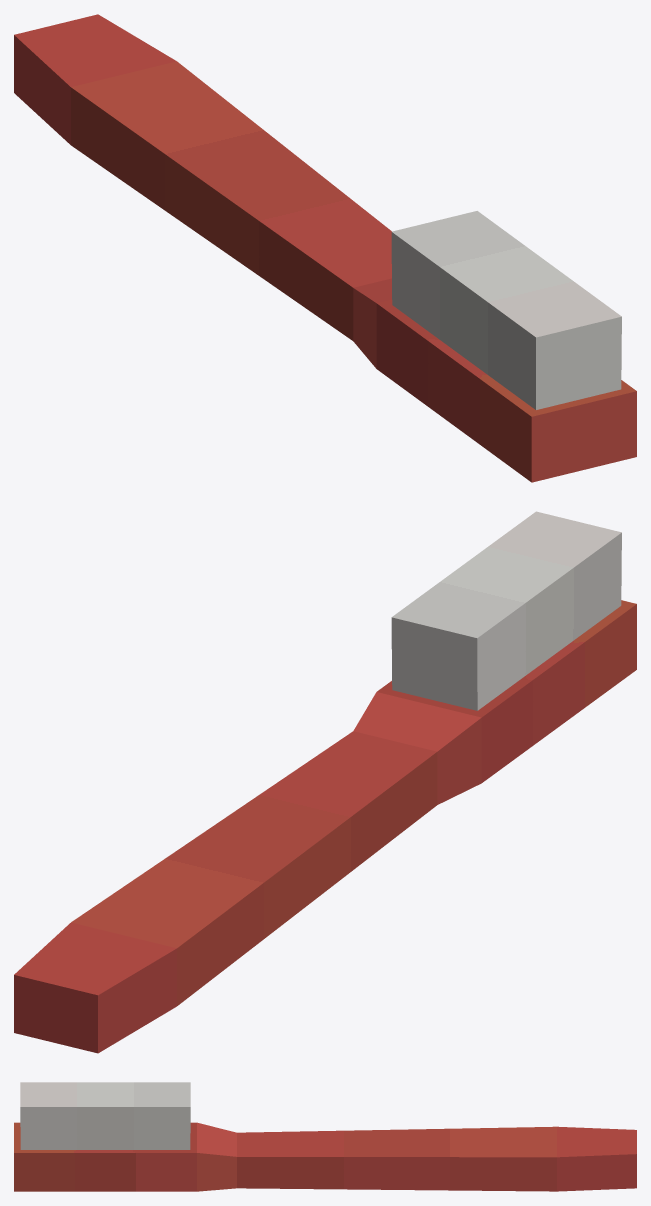
Rendered from Toothbrush01.glb.
The picture shows the model from 3 angles, top to bottom: view 1: azimuth 30°, elevation 25°; view 2: azimuth 150°, elevation 25°; view 3: azimuth 270°, elevation 25°; orthographic projection. The views are drawn at different scales.
Parts seen in each view (by area): view 1: Toothbrush01; view 2: Toothbrush01; view 3: Toothbrush01.
Part boxes in pixels (x1,y1,x2,y2): Toothbrush01: (14,14,636,482); Toothbrush01: (14,511,636,1053); Toothbrush01: (14,1082,636,1191).
Bounding box in the file's own units: 0.0278 × 0.0347 × 0.2393.
Materials: 1 (1 with a texture image).
